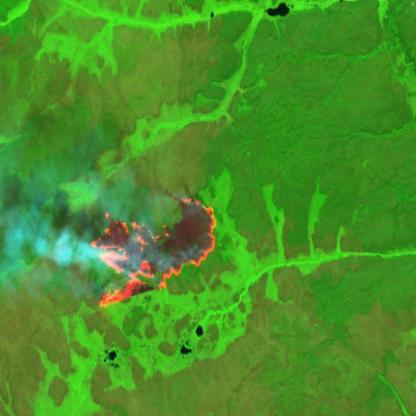fire: (86, 192, 220, 310)
